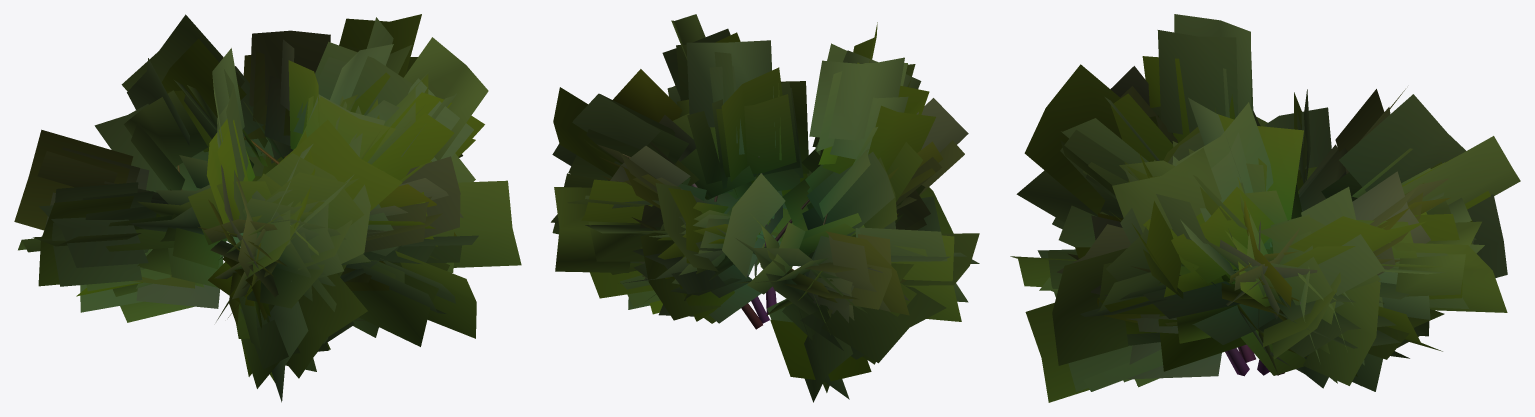
The model's file is veg_bush_b.glb.
The picture shows the model from 3 angles, left to right: view 1: azimuth 30°, elevation 25°; view 2: azimuth 150°, elevation 25°; view 3: azimuth 270°, elevation 25°; orthographic projection. The views are drawn at different scales.
Parts seen in each view (by area): view 1: veg_bush_b_LOD0; view 2: veg_bush_b_LOD0; view 3: veg_bush_b_LOD0.
Boxes of the visible parts, x1,y1,x2,y2 form: veg_bush_b_LOD0: [14, 14, 521, 402]; veg_bush_b_LOD0: [551, 14, 979, 402]; veg_bush_b_LOD0: [1010, 14, 1520, 402].
Size of what is drawn, in the model's own units: 1.63 by 1.16 by 1.61.
